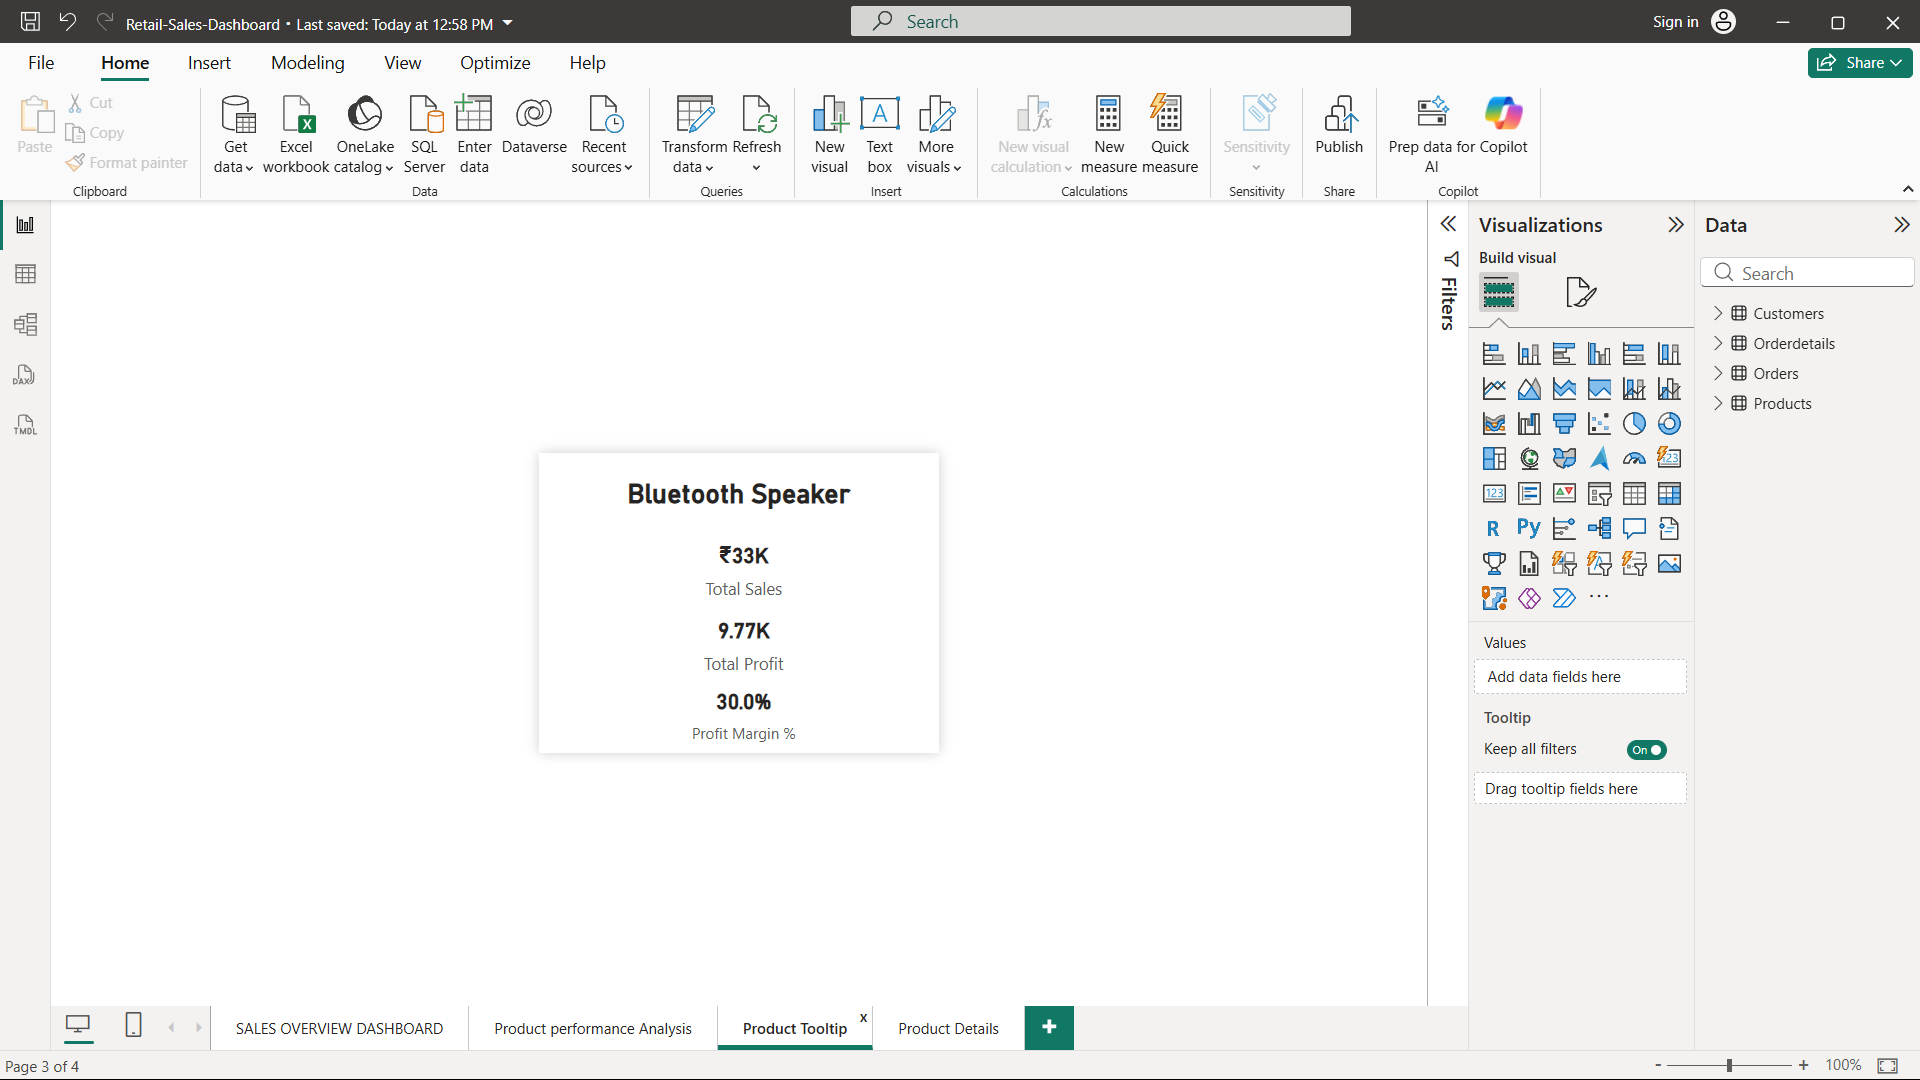

The page's visual inventory and layout, read from the dashboard file:
{"tool":"powerbi","page":{"name":"Product Tooltip","canvas":[320,240],"ordinal":2},"visuals":[{"type":"card","fields":{"Values":["Min(Products.ProductName)"]},"box":[64,0,192,64],"z":0},{"type":"card","fields":{"Values":["Customers.Total Sales"]},"box":[88,64,152,56],"z":1000},{"type":"card","fields":{"Values":["Customers.Total Profit"]},"box":[88,120,152,64],"z":2000},{"type":"card","fields":{"Values":["Customers.Profit Margin %"]},"box":[88,176,152,64],"z":3000}]}

Visuals, with their boxes on the page's 320x240 design canvas (x1, y1, x2, y2). These are canvas units, not pixel positions in the 1920x1080 screenshot, which may show the page scaled, cropped or inside an application window:
card - Min(Products.ProductName): l=64, t=0, r=256, b=64
card - Customers.Total Sales: l=88, t=64, r=240, b=120
card - Customers.Total Profit: l=88, t=120, r=240, b=184
card - Customers.Profit Margin %: l=88, t=176, r=240, b=240
